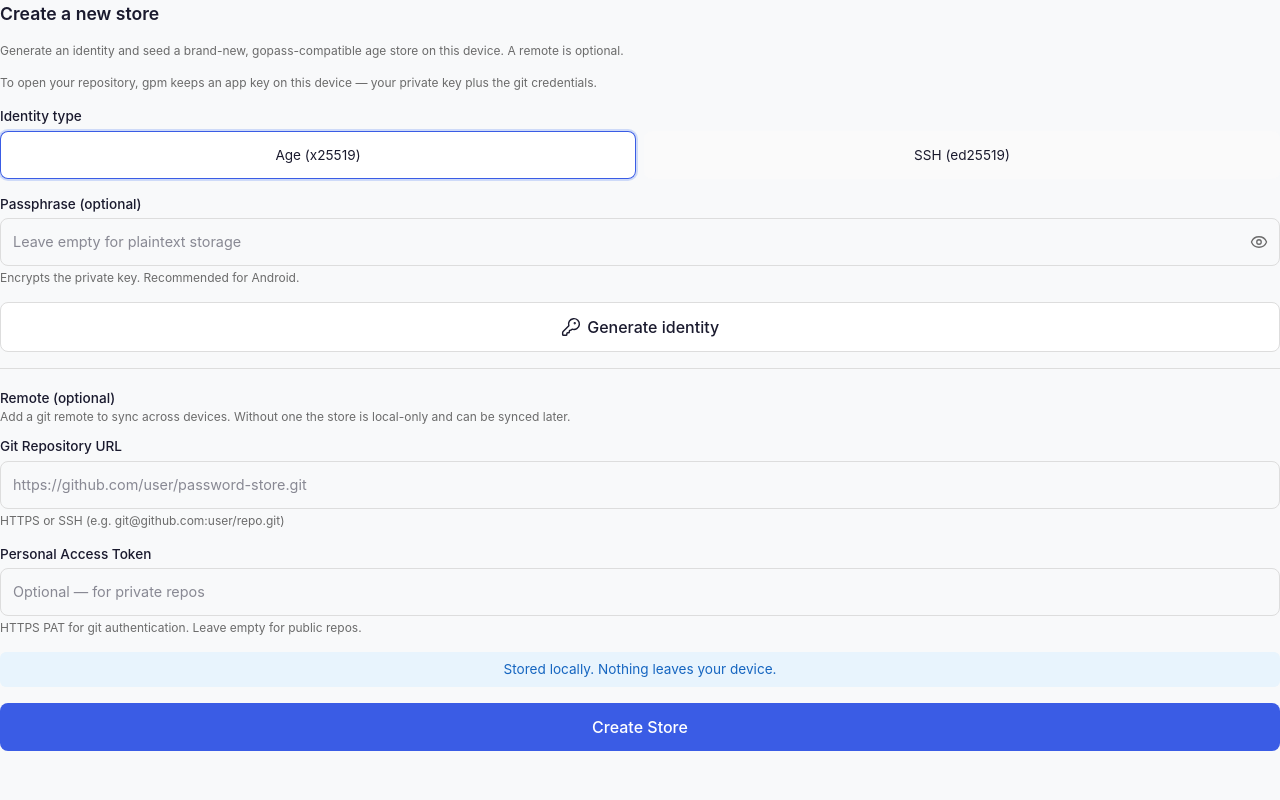
CreateFlow › rejects an SSH remote URL without a push-auth key
Click the button "Generate identity".
click(640, 327)  # box [0, 302, 1279, 352]
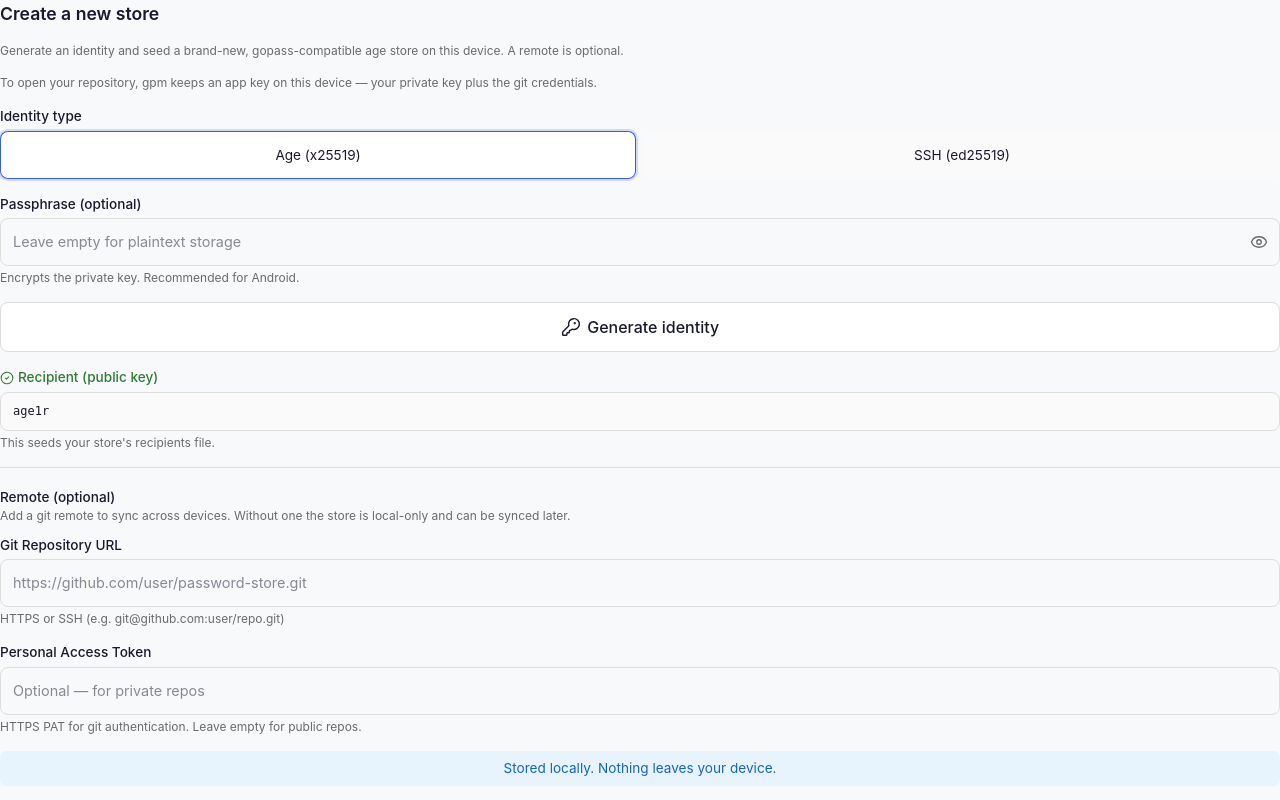
Type "git@github.com:user/repo.git" into the field with id "repo-url".
click(640, 583); type("git@github.com:user/repo.git")  # box [0, 559, 1279, 607]
(page scrolled)
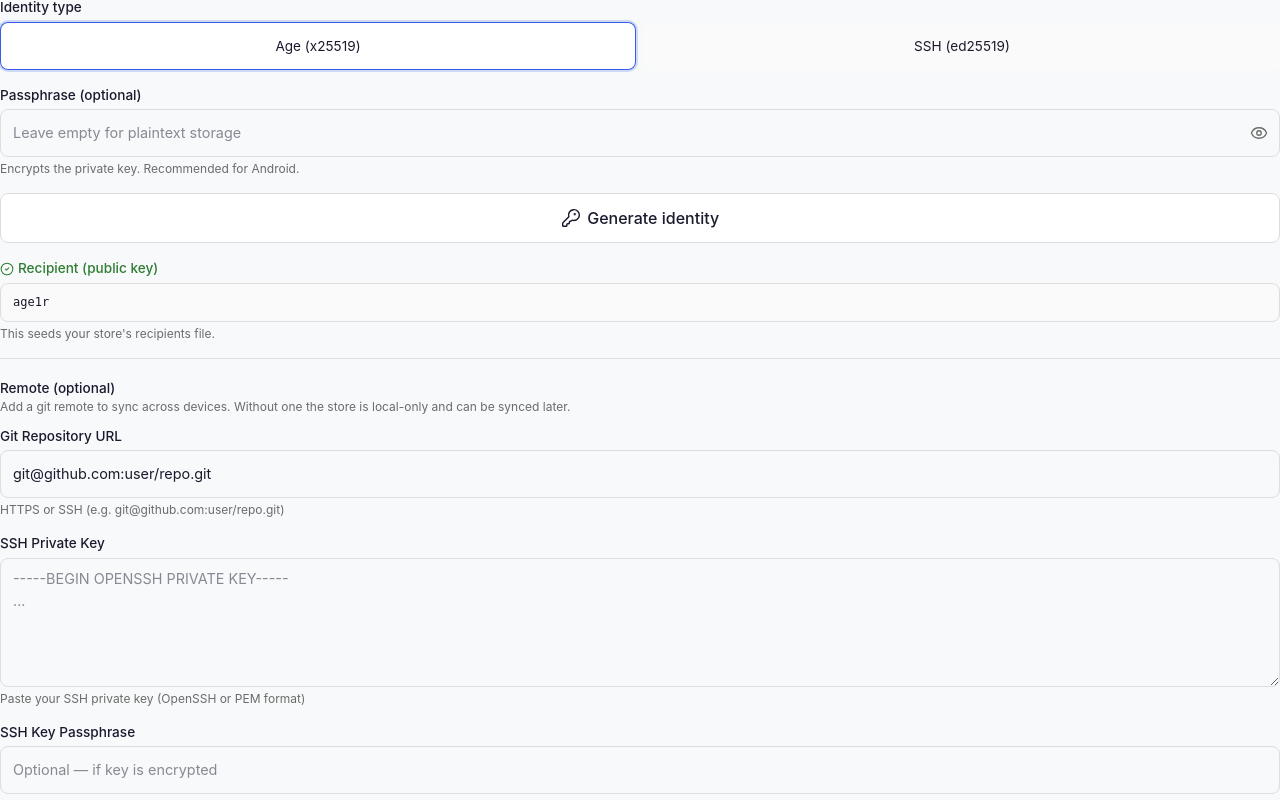
Submit the form
(page scrolled)
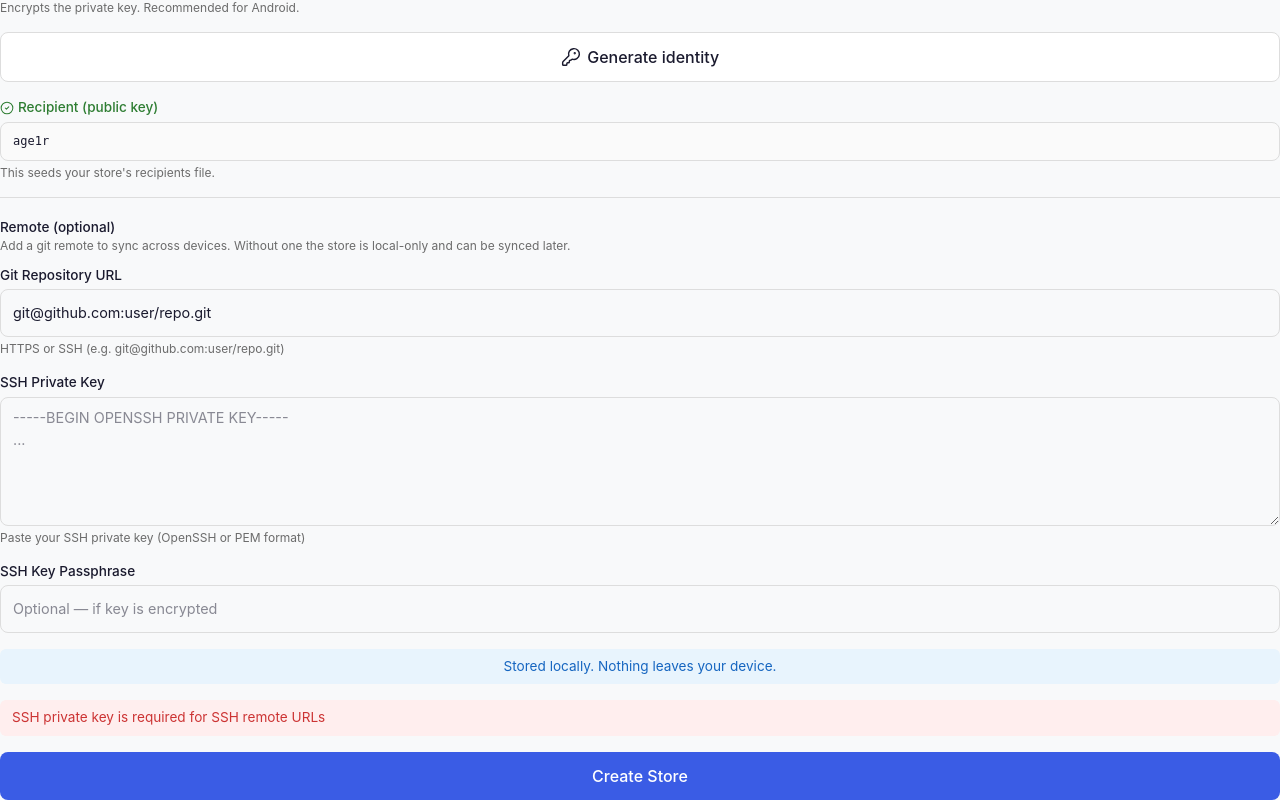
Check: the message "SSH private key is required for SSH remote URLs" is shown, box [0, 700, 1279, 736]
